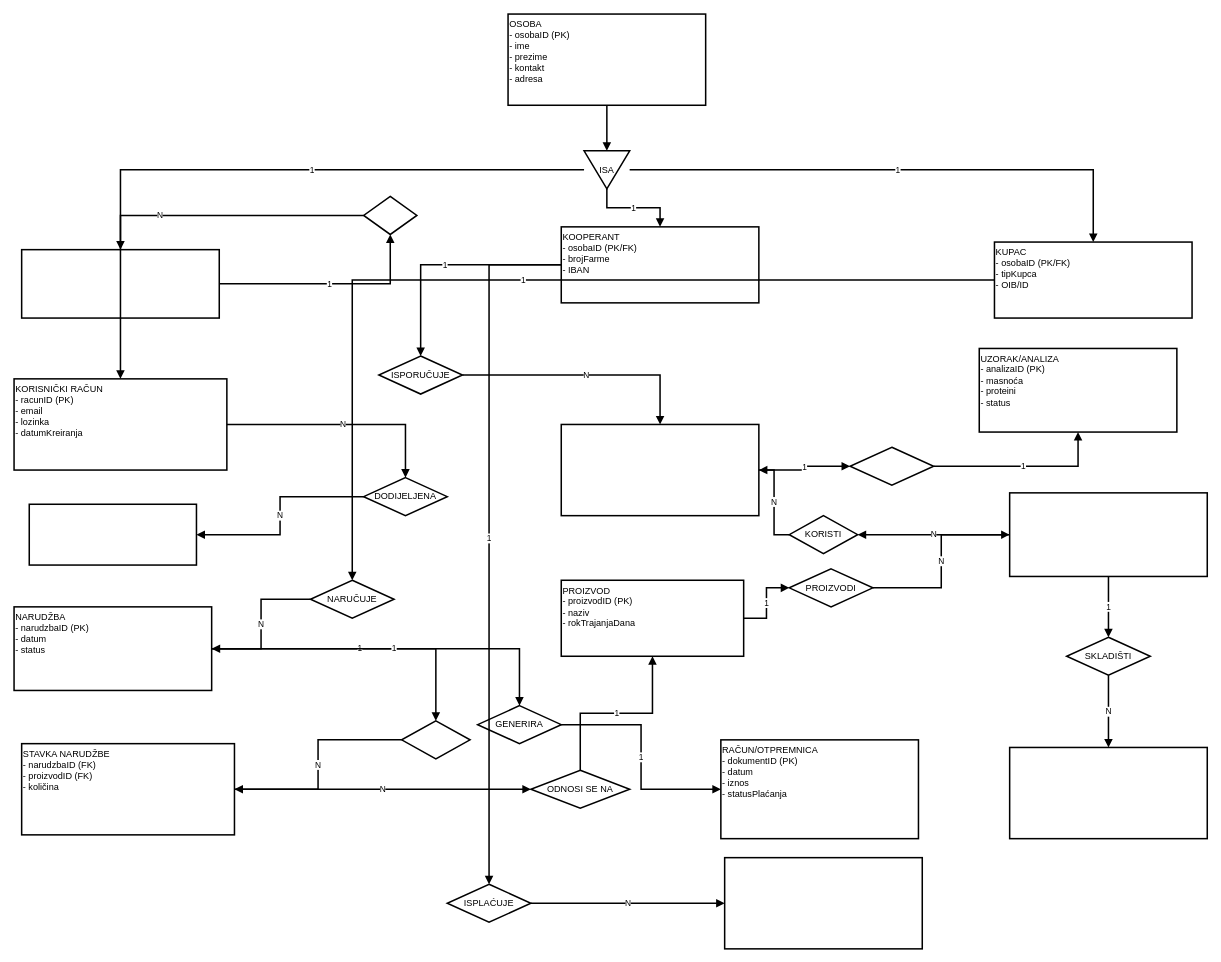
This 1221x962 diagram has some shape labels left out. The shapes that lost their labels are listed below. From the top down, each one's box as (x1, y1, x2, y2) in pixels, then its label:
(363, 195, 417, 235): IMA
(21, 249, 220, 318): ZAPOSLENIK - osobaID (PK/FK) - radnoMjesto
(560, 423, 759, 516): ISPORUKA MLIJEKA - isporukaID (PK) - datumVrijeme - količinaL - temperatura
(849, 446, 934, 486): ANALIZIRA
(28, 503, 197, 565): ULOGA - ulogaID (PK) - naziv
(1009, 492, 1208, 577): PROIZVODNA SERIJA - serijaID (PK) - datumProizvodnje - LOT
(401, 720, 470, 759): SADRŽI
(1009, 746, 1208, 839): ZALIHA - zalihaID (PK) - lokacija - količina - rokTrajanja
(724, 857, 923, 949): ISPLATA KOOPERANTU - isplataID (PK) - periodOd/Do - iznos - status
